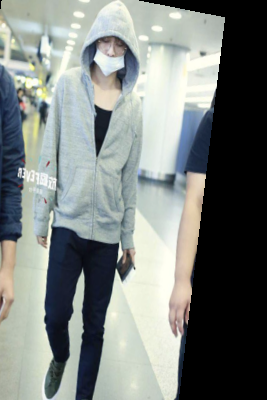mask_weared_incorrect: (77, 1, 148, 85)
